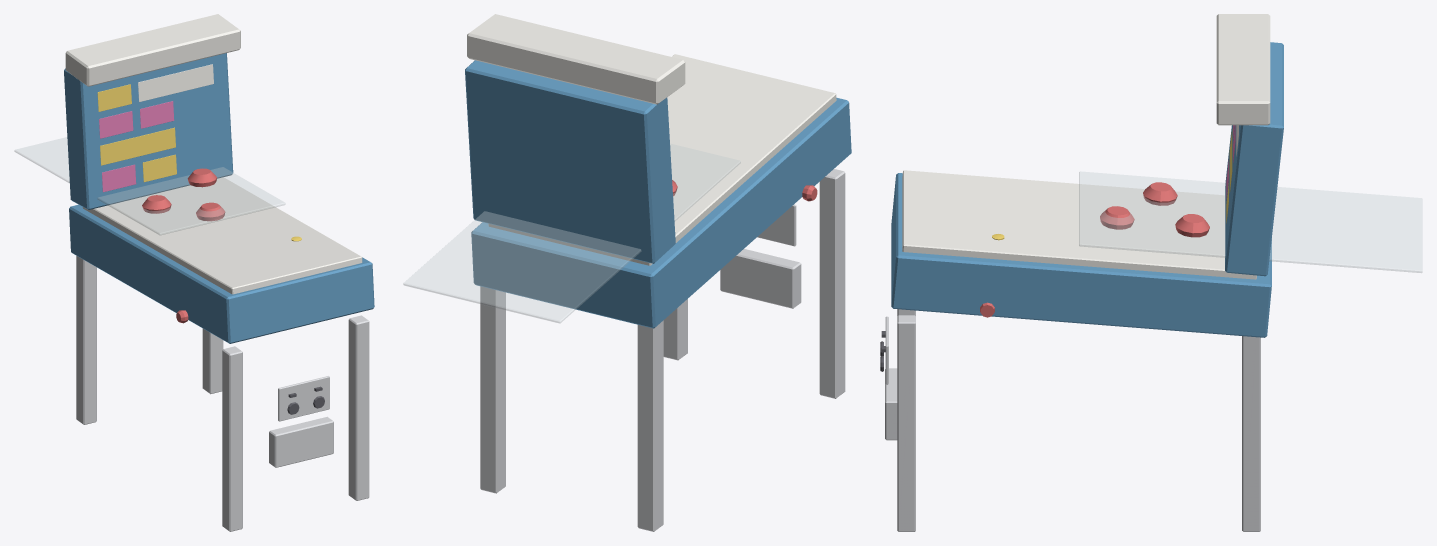
Rendered from amusement-arcade-and-seaside-pier-pinball-table-e2a93d69__35410.glb.
3 renders of one model, left to right at view 1: azimuth 30°, elevation 25°; view 2: azimuth 150°, elevation 25°; view 3: azimuth 270°, elevation 25°, orthographic. The views are drawn at different scales.
Visible parts, largest first — view 1: pinball-table; view 2: pinball-table; view 3: pinball-table.
Boxes of the visible parts, x1,y1,x2,y2 form: pinball-table: [14, 14, 374, 531]; pinball-table: [403, 14, 851, 531]; pinball-table: [880, 14, 1422, 531].
Bounding box in the file's own units: 0.81 × 1.78 × 2.01.
